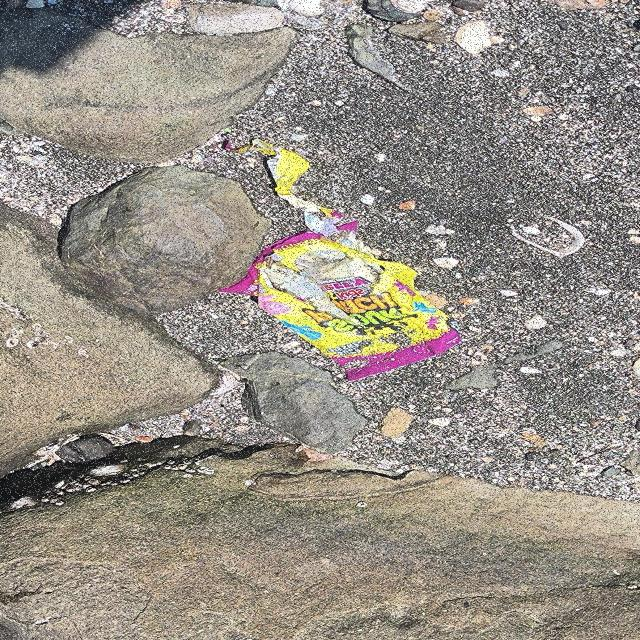plastic_waste: (214, 140, 463, 383)
